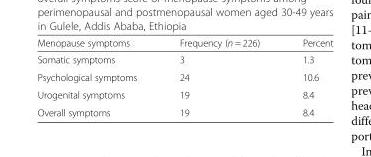table: (36, 36, 332, 117)
table column: (157, 36, 280, 117), (36, 36, 157, 117), (280, 36, 332, 117)
table column header: (36, 36, 332, 50)
table row: (36, 67, 332, 85), (36, 85, 332, 103), (36, 50, 332, 67), (36, 36, 332, 50), (36, 103, 332, 117)
